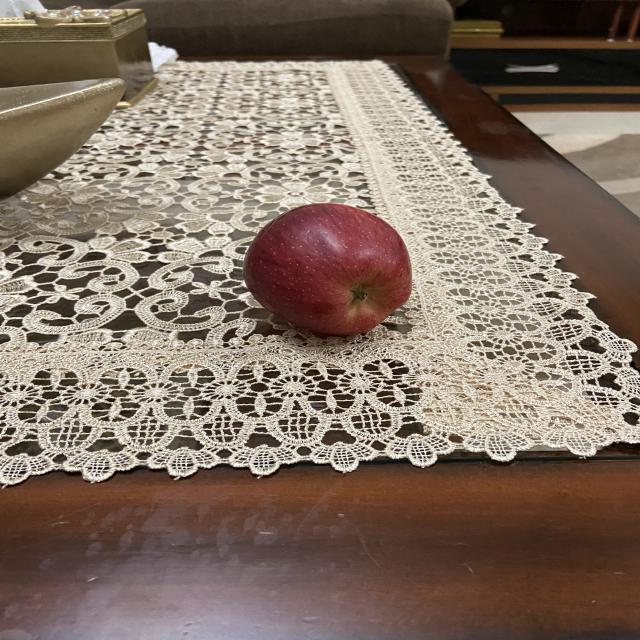apple: (246, 196, 414, 336)
